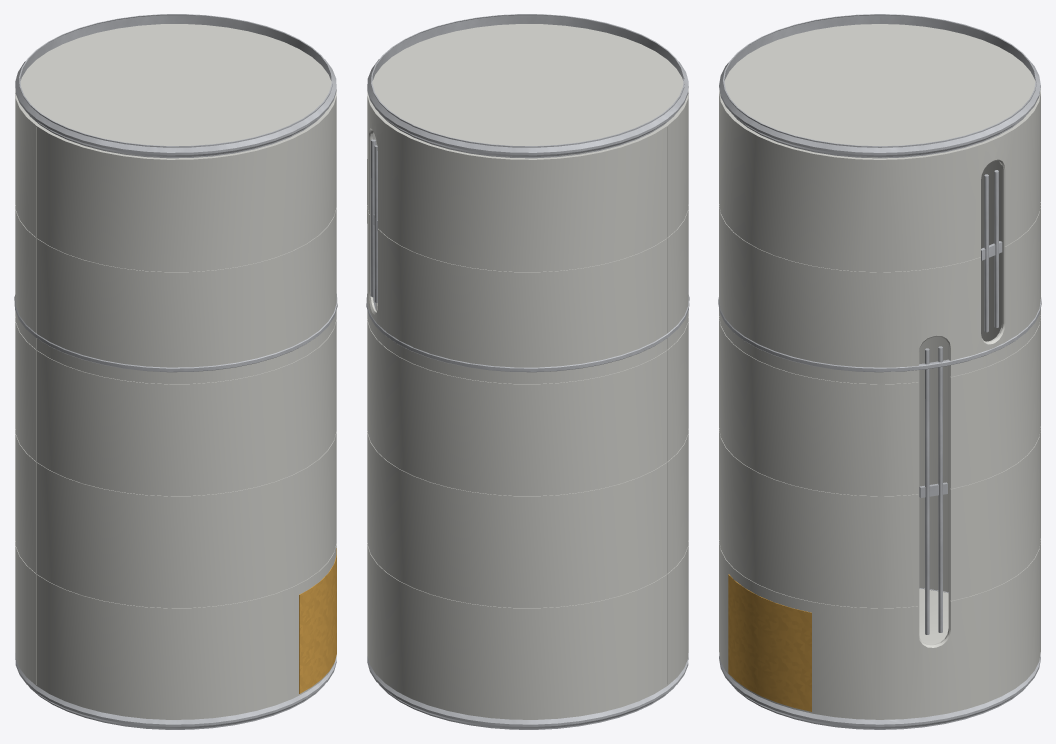
The model's file is ax_tank_03_heavy_methalox_xl_medium.glb.
3 views of the same model, side by side, from view 1: azimuth 30°, elevation 25°; view 2: azimuth 150°, elevation 25°; view 3: azimuth 270°, elevation 25° (orthographic).
Parts seen in each view (by area): view 1: tank_barrel, dome_caps, end_rings, mli_patch, common_bulkhead_ring; view 2: tank_barrel, dome_caps, end_rings, common_bulkhead_ring, raceway_lines; view 3: tank_barrel, dome_caps, end_rings, mli_patch, raceway_lines, common_bulkhead_ring.
Part boxes in pixels (<box>): tank_barrel: <box>15,88,336,719</box>; dome_caps: <box>20,24,331,157</box>; end_rings: <box>15,14,336,729</box>; mli_patch: <box>299,548,336,693</box>; common_bulkhead_ring: <box>14,294,337,372</box>; tank_barrel: <box>367,88,688,719</box>; dome_caps: <box>372,24,683,157</box>; end_rings: <box>367,14,688,729</box>; common_bulkhead_ring: <box>366,294,689,372</box>; raceway_lines: <box>370,139,377,310</box>; tank_barrel: <box>719,90,1040,719</box>; dome_caps: <box>724,24,1035,644</box>; end_rings: <box>719,14,1040,729</box>; mli_patch: <box>728,574,811,711</box>; raceway_lines: <box>919,170,1002,634</box>; common_bulkhead_ring: <box>718,297,1041,372</box>.
Bounding box in the file's own units: 5.02 × 10 × 5.02.
3 materials, 2 textured.
